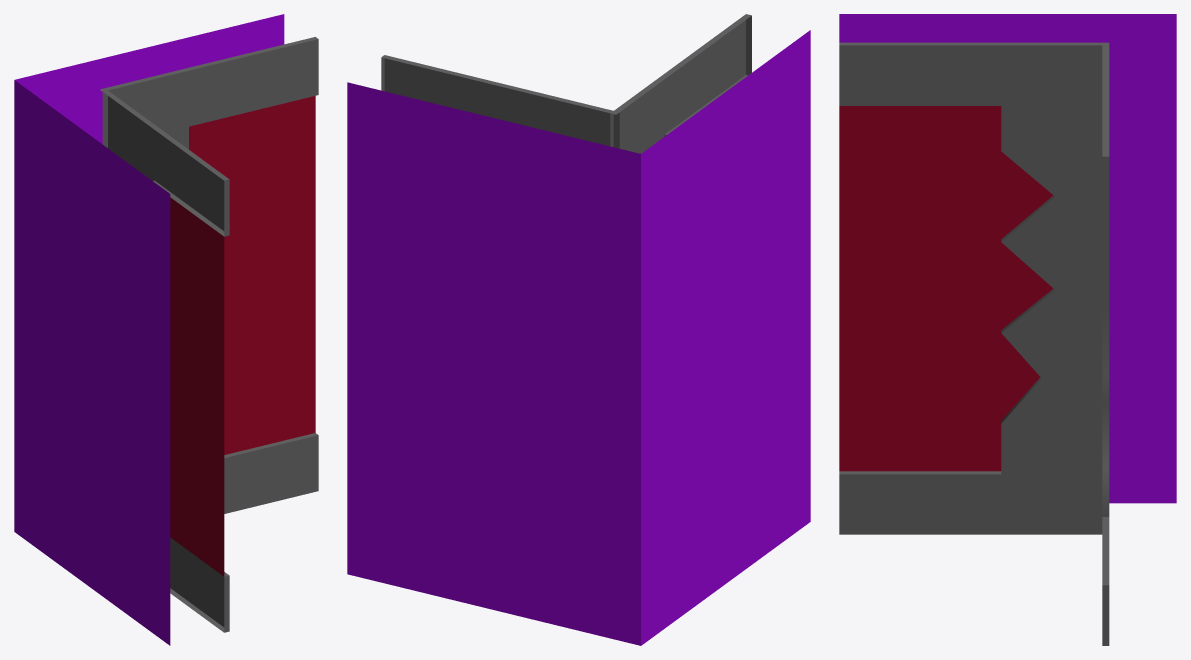
Rendered from Corner_01_In_1x2.fbx.
3 views of the same model, side by side, from view 1: azimuth 30°, elevation 25°; view 2: azimuth 150°, elevation 25°; view 3: azimuth 270°, elevation 25° (orthographic). The views are drawn at different scales.
Visible parts, largest first — view 1: Corner_In_1x2; view 2: Corner_In_1x2; view 3: Corner_In_1x2.
Boxes of the visible parts, bbox=[...] form: Corner_In_1x2: bbox=[14, 14, 318, 645]; Corner_In_1x2: bbox=[347, 14, 810, 645]; Corner_In_1x2: bbox=[839, 14, 1176, 645].
Size of the model in its own units: 1.25 by 2 by 1.25.
